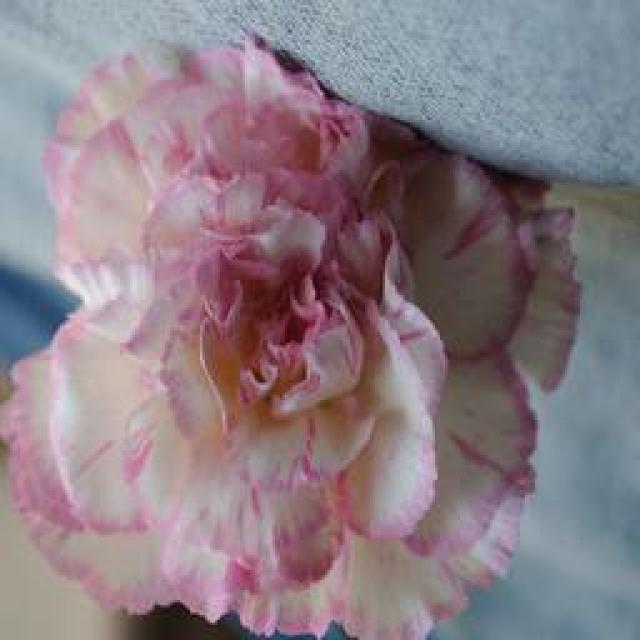carnation: (0, 50, 590, 638)
